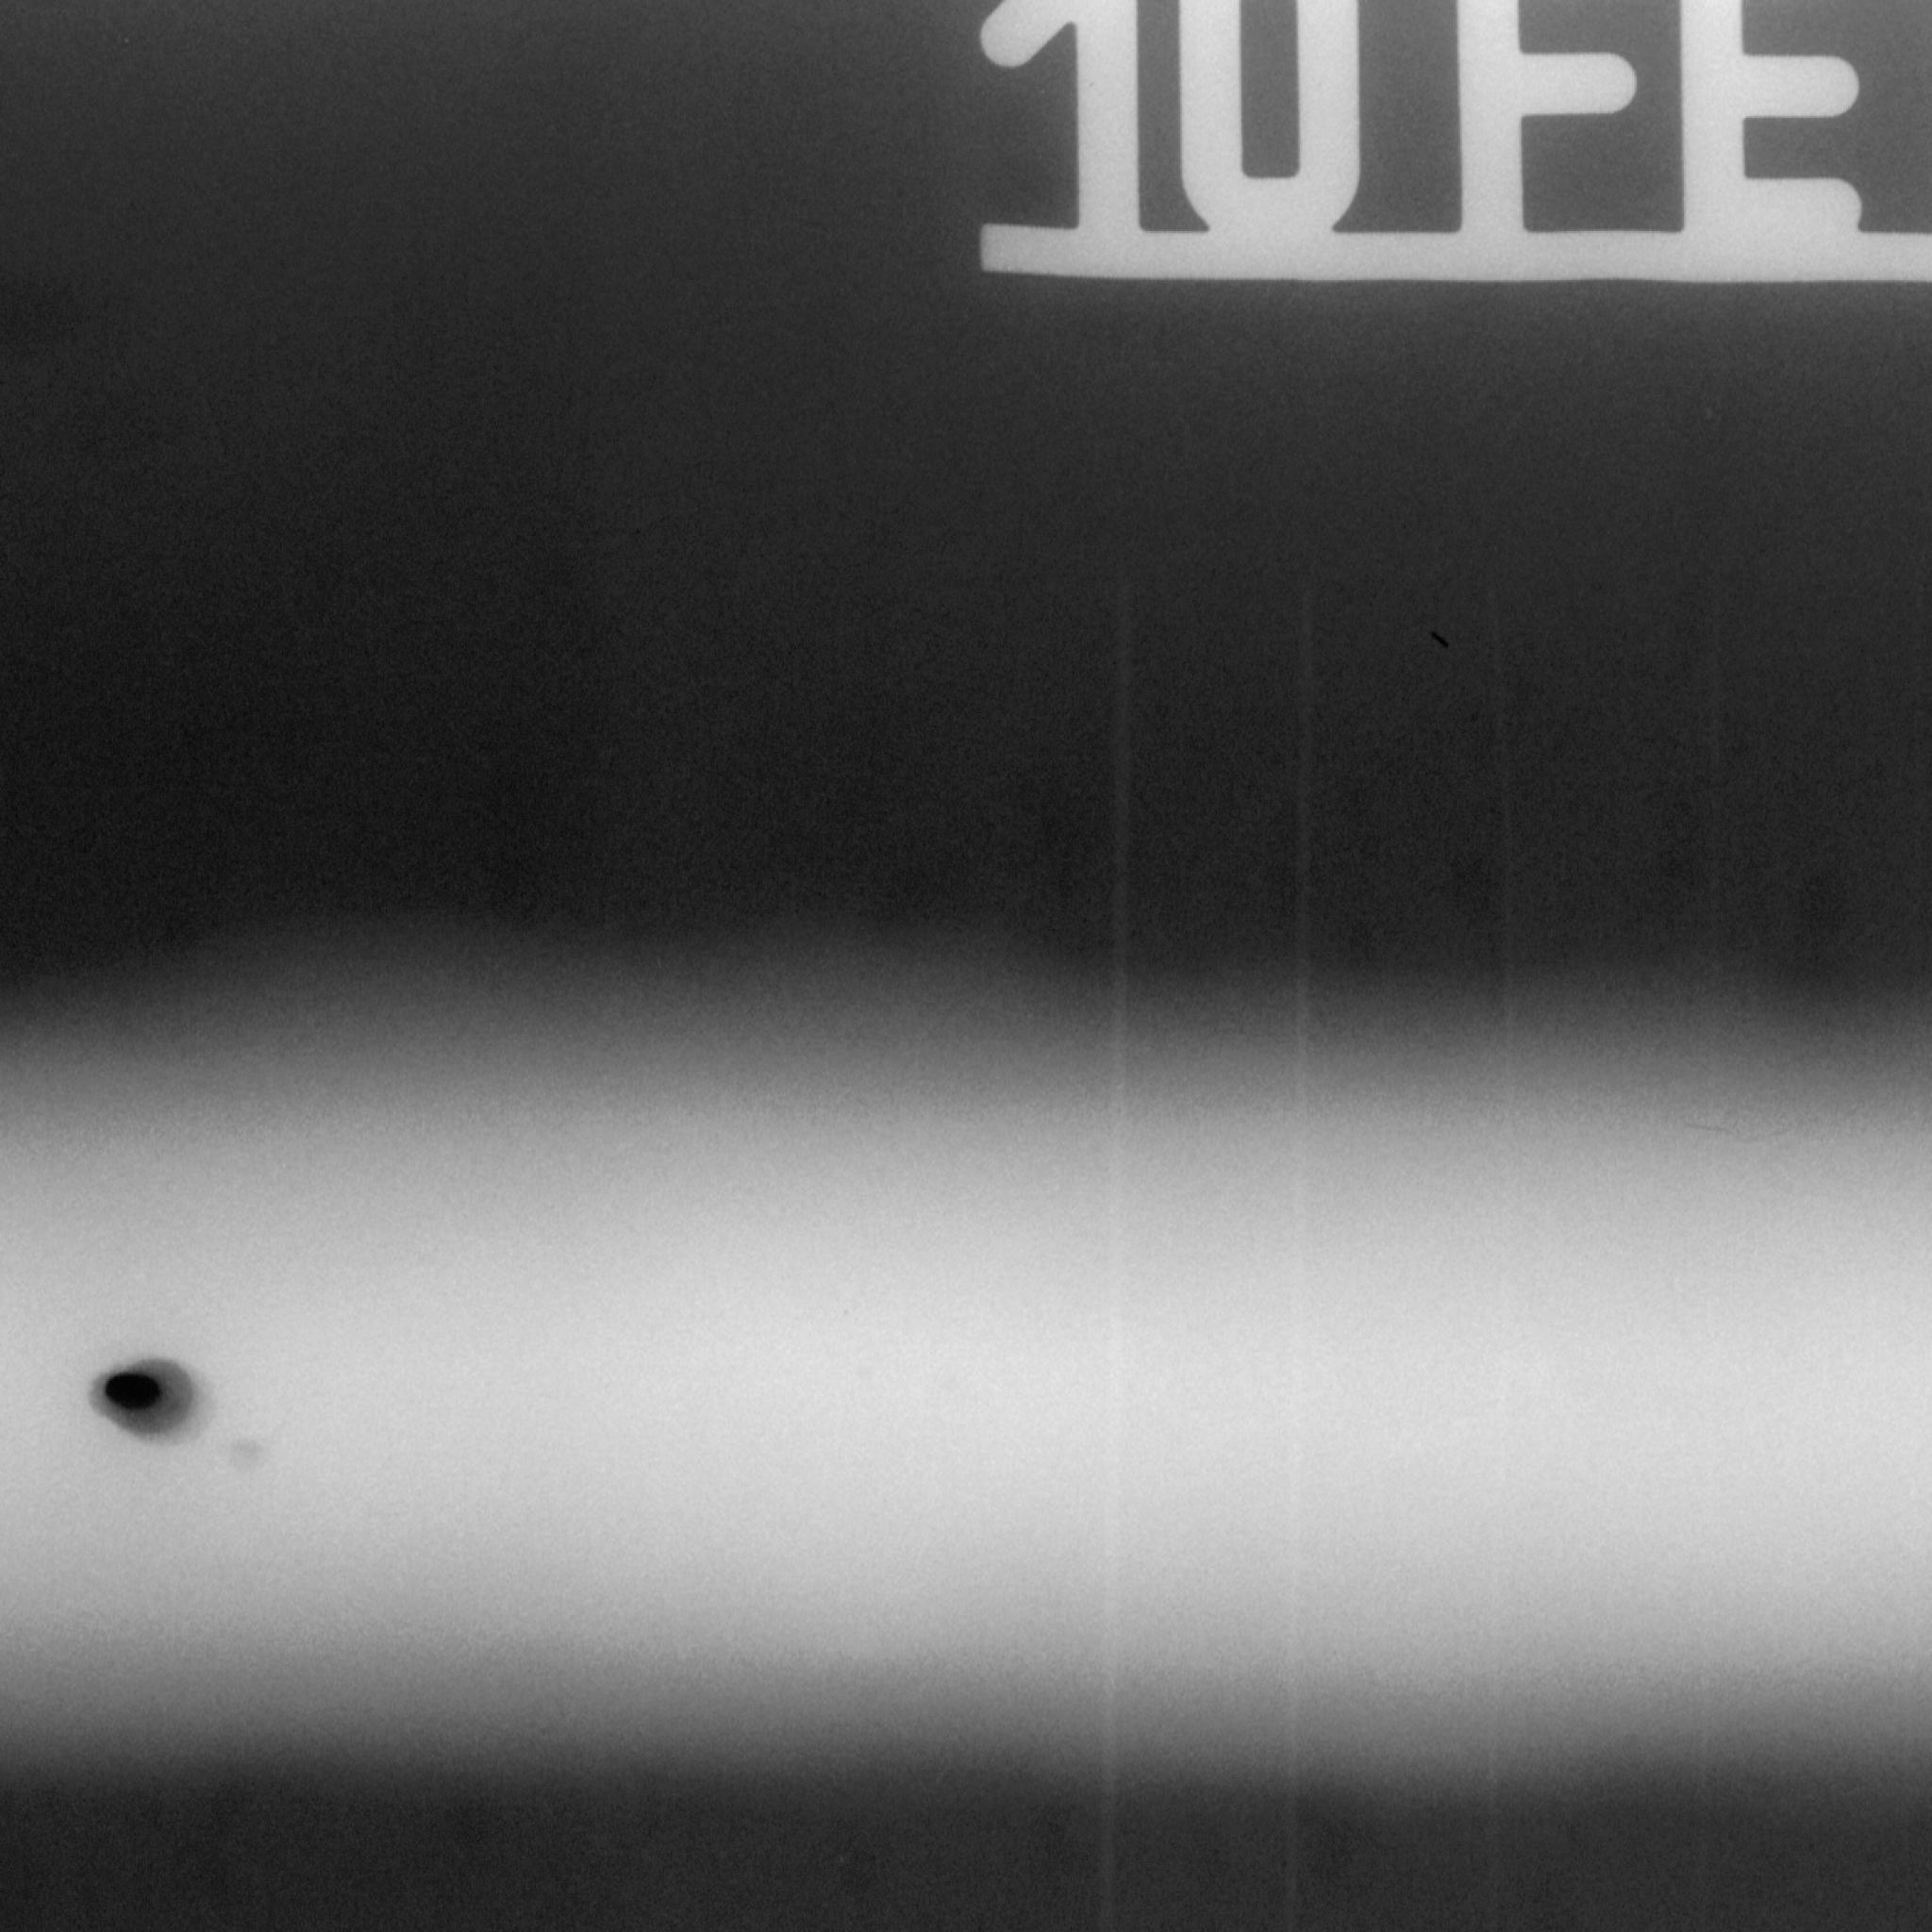PO: (81, 1297, 219, 1479), (216, 1424, 295, 1490)
